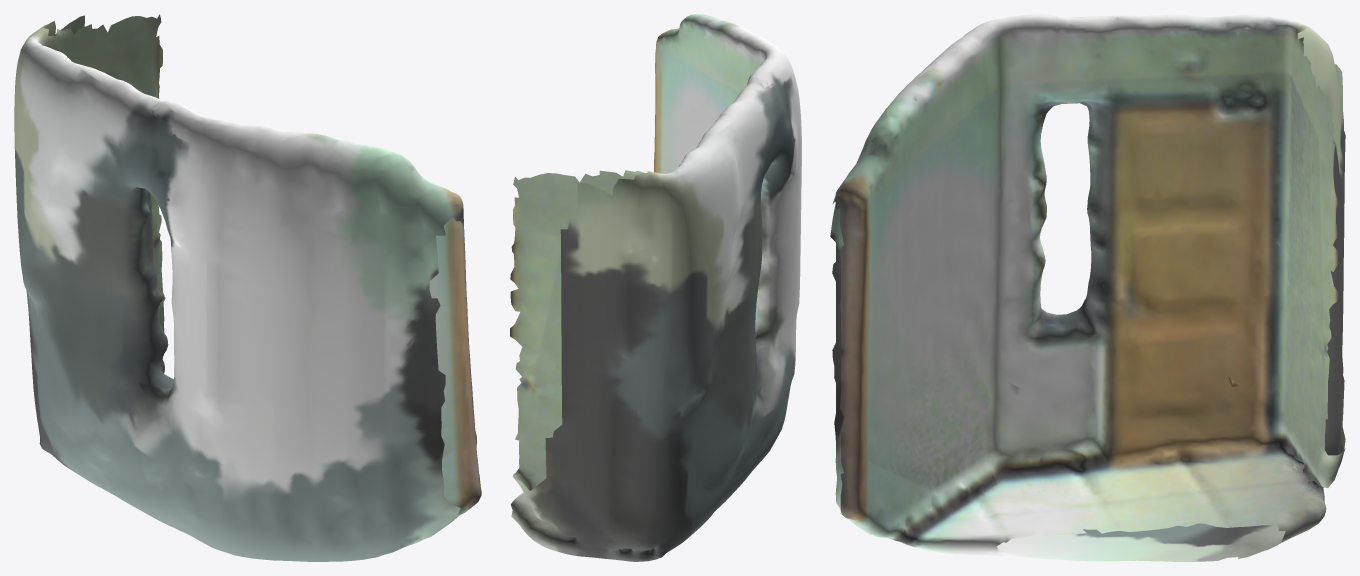
The model's file is LEFTCORNER.obj.
3 renders of one model, left to right at view 1: azimuth 30°, elevation 25°; view 2: azimuth 150°, elevation 25°; view 3: azimuth 270°, elevation 25°, orthographic. The views are drawn at different scales.
Visible parts, largest first — view 1: default; view 2: default; view 3: default.
Part boxes in pixels (x1=…): default: x1=14, y1=14, x2=481, y2=561; default: x1=510, y1=14, x2=801, y2=561; default: x1=830, y1=14, x2=1345, y2=561.
Bounding box in the file's own units: 1.64 × 2.71 × 2.67.
Materials: 1 (1 with a texture image).
